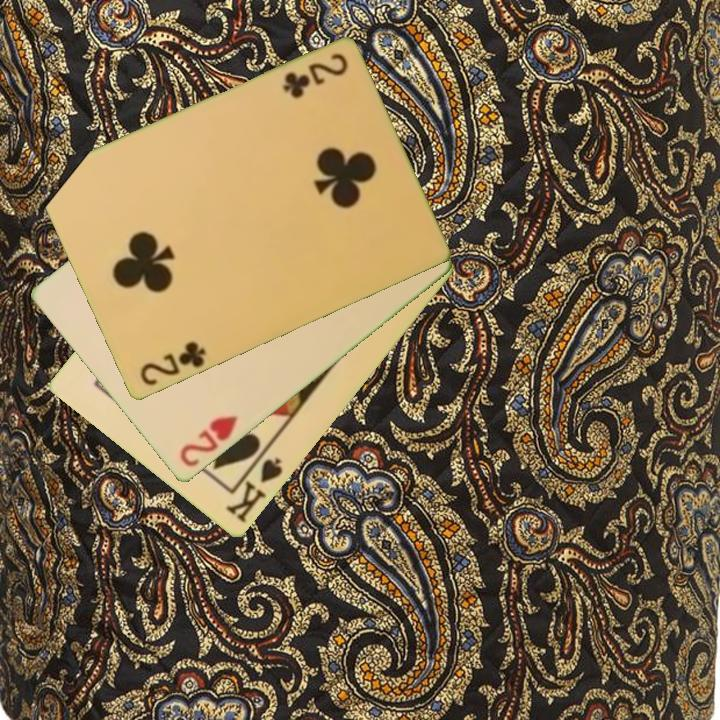2c: (136, 338, 209, 390), (278, 50, 351, 101)
2h: (176, 412, 241, 471)
Ks: (222, 446, 286, 527)
